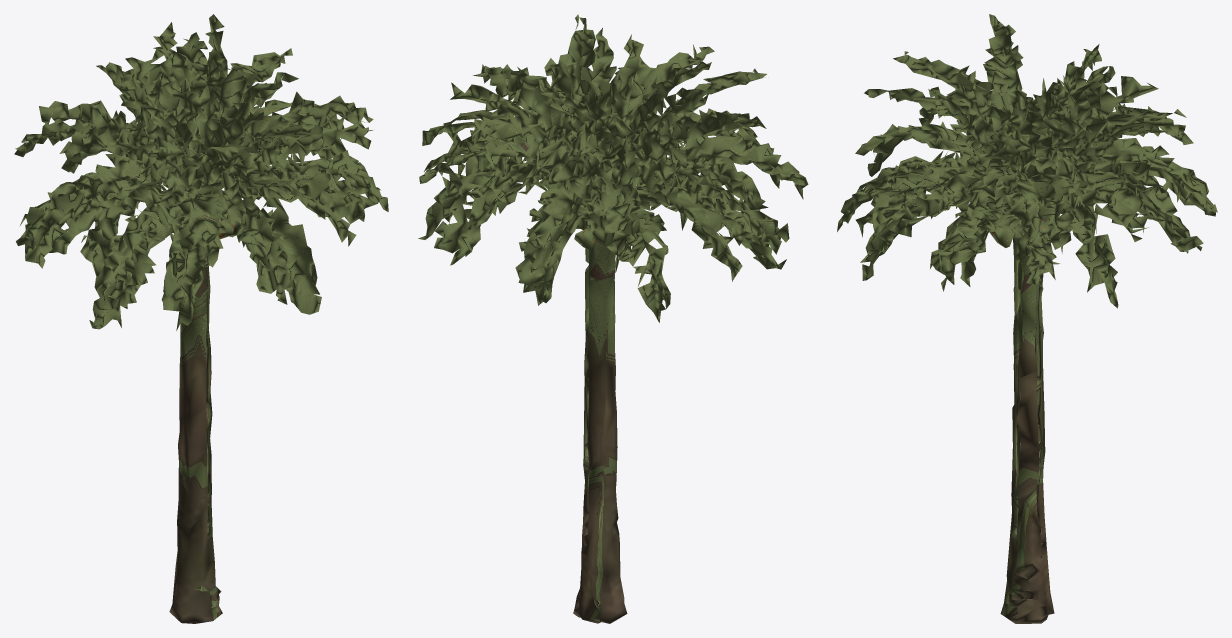
The model's file is palm2_lod1.glb.
The picture shows the model from 3 angles, left to right: view 1: azimuth 30°, elevation 25°; view 2: azimuth 150°, elevation 25°; view 3: azimuth 270°, elevation 25°; orthographic projection.
Size of the model in its own units: 1.21 by 1.89 by 1.17.
1 material, 1 textured.
